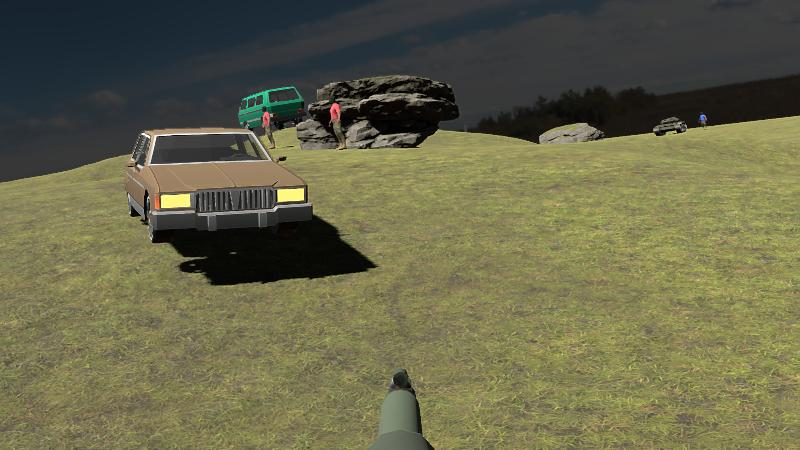Human: (327, 94, 347, 151), (261, 104, 276, 151)
car: (125, 128, 315, 244), (237, 86, 306, 133)
